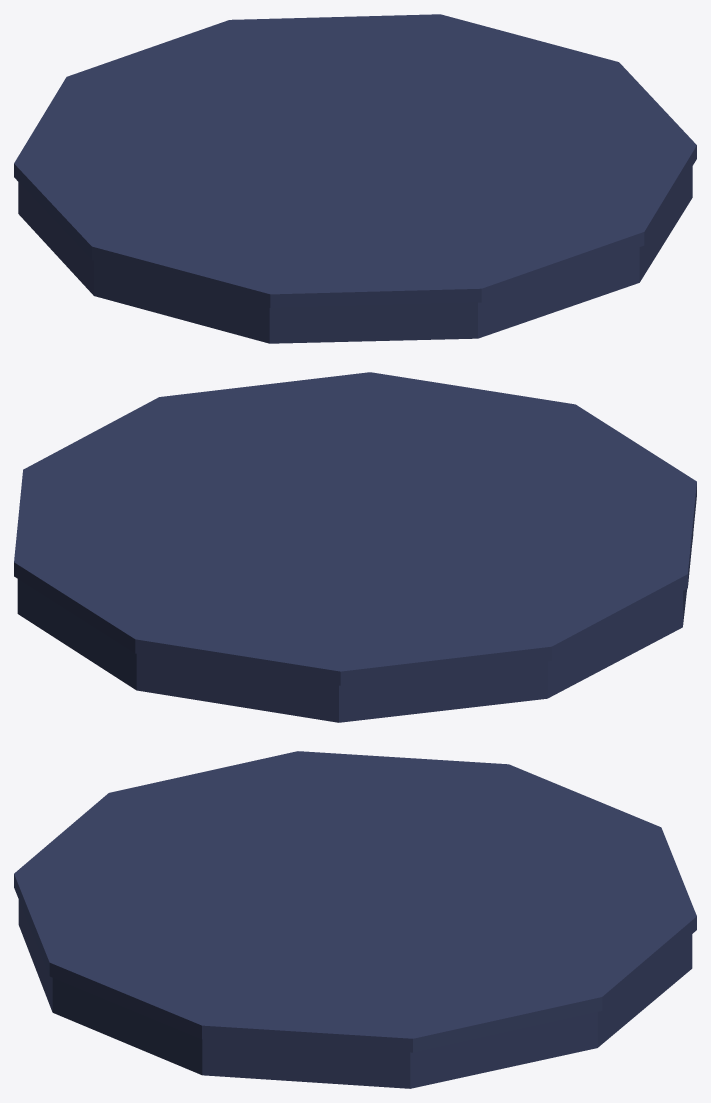
File: Fan.fbx
The picture shows the model from 3 angles, top to bottom: view 1: azimuth 30°, elevation 25°; view 2: azimuth 150°, elevation 25°; view 3: azimuth 270°, elevation 25°; orthographic projection. The views are drawn at different scales.
Visible parts, largest first — view 1: Base; view 2: Base; view 3: Base.
Boxes of the visible parts, x1,y1,x2,y2 form: Base: (14,14,696,343); Base: (14,372,696,722); Base: (14,751,696,1088).
Bounding box in the file's own units: 410 × 35.3 × 411.
